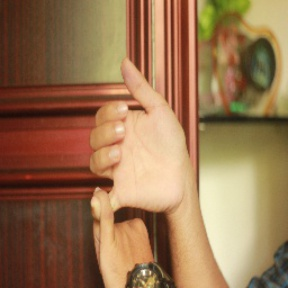S: (80, 58, 184, 281)
